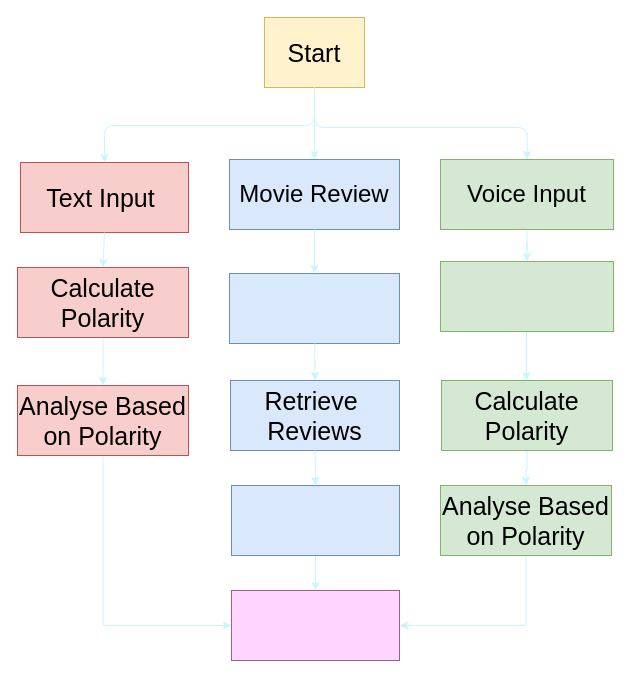
This 631x678 diagram has some shape labels left out. The centre of each missing label's shape, as x and y in pixels:
"Analyse Reviews" goes at (x=315, y=520).
"Convert to Text" goes at (x=527, y=296).
"Display Result" goes at (x=315, y=625).
"Select Movie" goes at (x=314, y=308).
